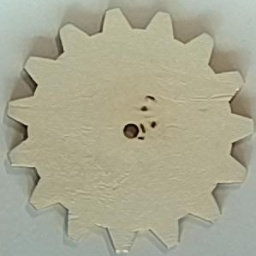Points: (138, 122, 148, 135), (145, 94, 157, 102), (139, 105, 149, 112), (151, 121, 157, 128), (138, 136, 145, 142)
